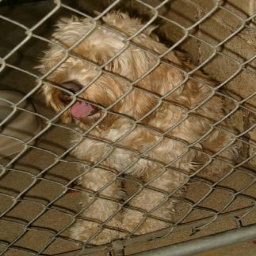dog: (36, 18, 256, 235)
